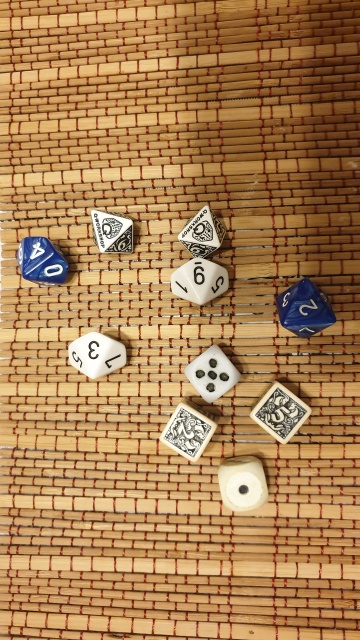d10-2: (268, 270, 345, 346)
d10-3: (61, 326, 134, 383)
d10-4: (7, 232, 77, 289)
d10-9: (165, 257, 242, 311)
d6-1: (215, 451, 274, 517)
d6-5: (178, 342, 246, 406)
d6p-2: (157, 401, 218, 465)
d6p-5: (246, 377, 312, 450)
d8p-8: (175, 202, 233, 261), (89, 206, 141, 260)
